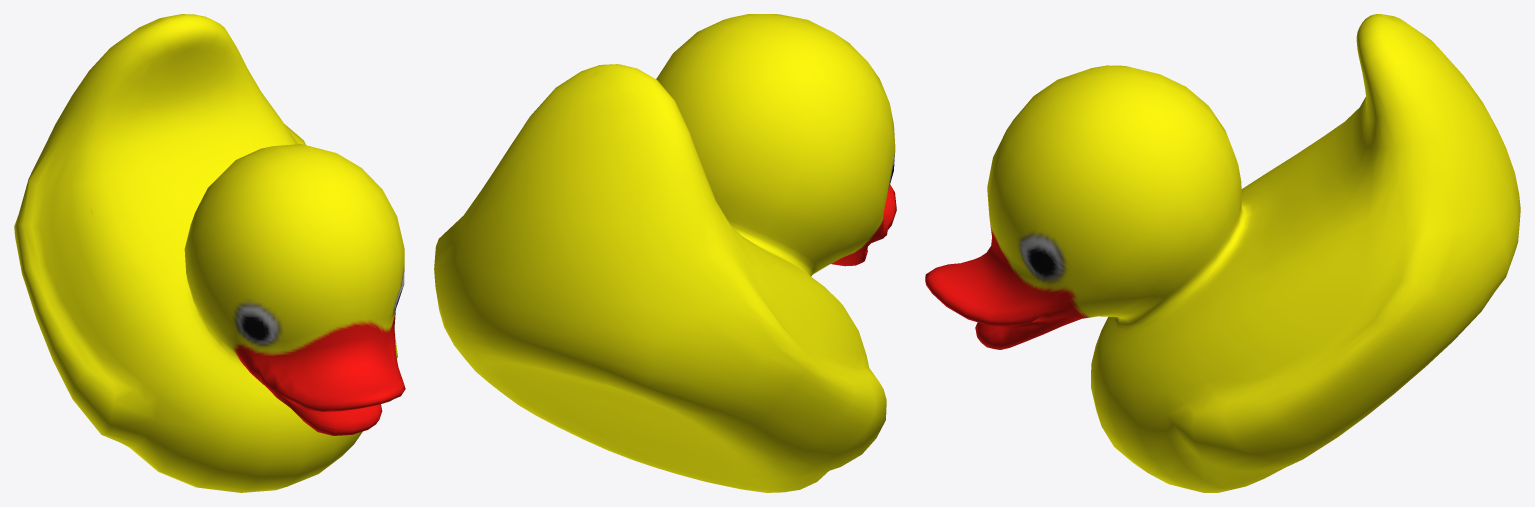
File: suica-duck.glb
3 renders of one model, left to right at view 1: azimuth 30°, elevation 25°; view 2: azimuth 150°, elevation 25°; view 3: azimuth 270°, elevation 25°, orthographic. The views are drawn at different scales.
Visible parts, largest first — view 1: Mesh; view 2: Mesh; view 3: Mesh.
Boxes of the visible parts, <box> form: Mesh: <box>14,14,405,492</box>; Mesh: <box>434,14,896,492</box>; Mesh: <box>925,14,1520,492</box>.
Bounding box in the file's own units: 52.79 × 64.75 × 77.7.
Materials: 1 (1 with a texture image).
